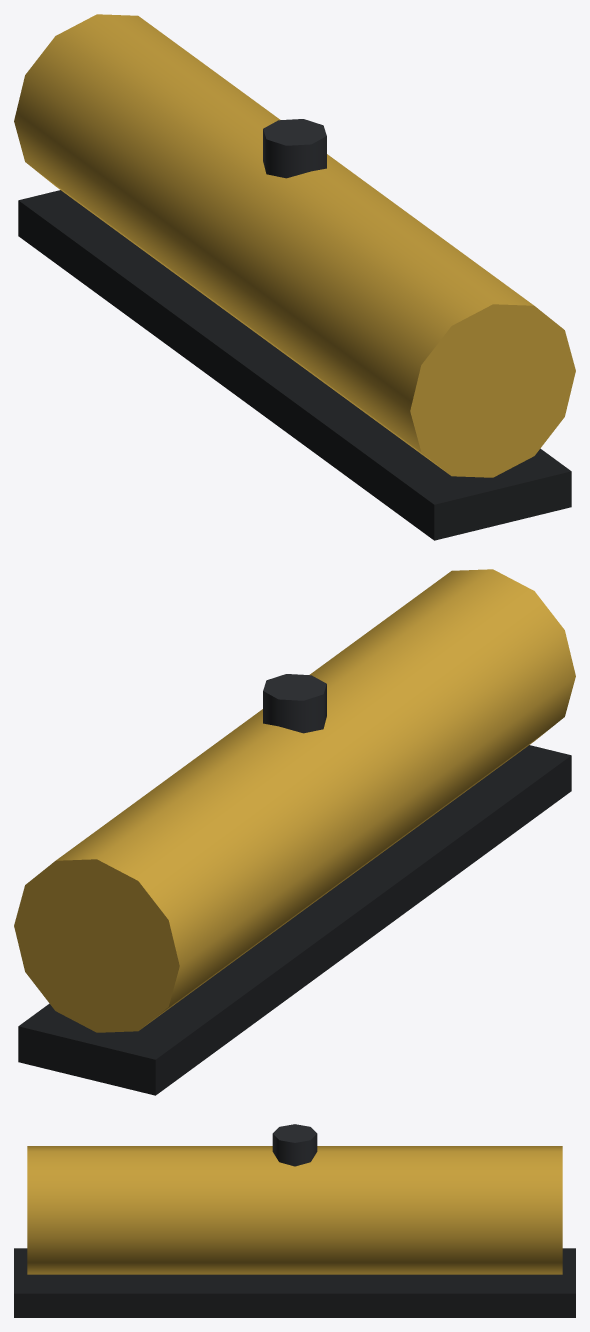
The model's file is train-car-1.glb.
3 views of the same model, one above another, from view 1: azimuth 30°, elevation 25°; view 2: azimuth 150°, elevation 25°; view 3: azimuth 270°, elevation 25° (orthographic). The views are drawn at different scales.
Visible parts, largest first — view 1: 01_#c9a13a, 00_#1e2022, 02_#2a2c30_r320; view 2: 01_#c9a13a, 00_#1e2022, 02_#2a2c30_r320; view 3: 01_#c9a13a, 00_#1e2022, 02_#2a2c30_r320.
Boxes of the visible parts, <box> form: 01_#c9a13a: <box>14,14,575,477</box>; 00_#1e2022: <box>18,190,571,540</box>; 02_#2a2c30_r320: <box>263,119,326,178</box>; 01_#c9a13a: <box>14,569,575,1032</box>; 00_#1e2022: <box>18,745,571,1095</box>; 02_#2a2c30_r320: <box>263,674,326,733</box>; 01_#c9a13a: <box>27,1146,562,1274</box>; 00_#1e2022: <box>14,1248,575,1317</box>; 02_#2a2c30_r320: <box>272,1124,317,1166</box>.
Bounding box in the file's own units: 2.9 × 4 × 12.6.
